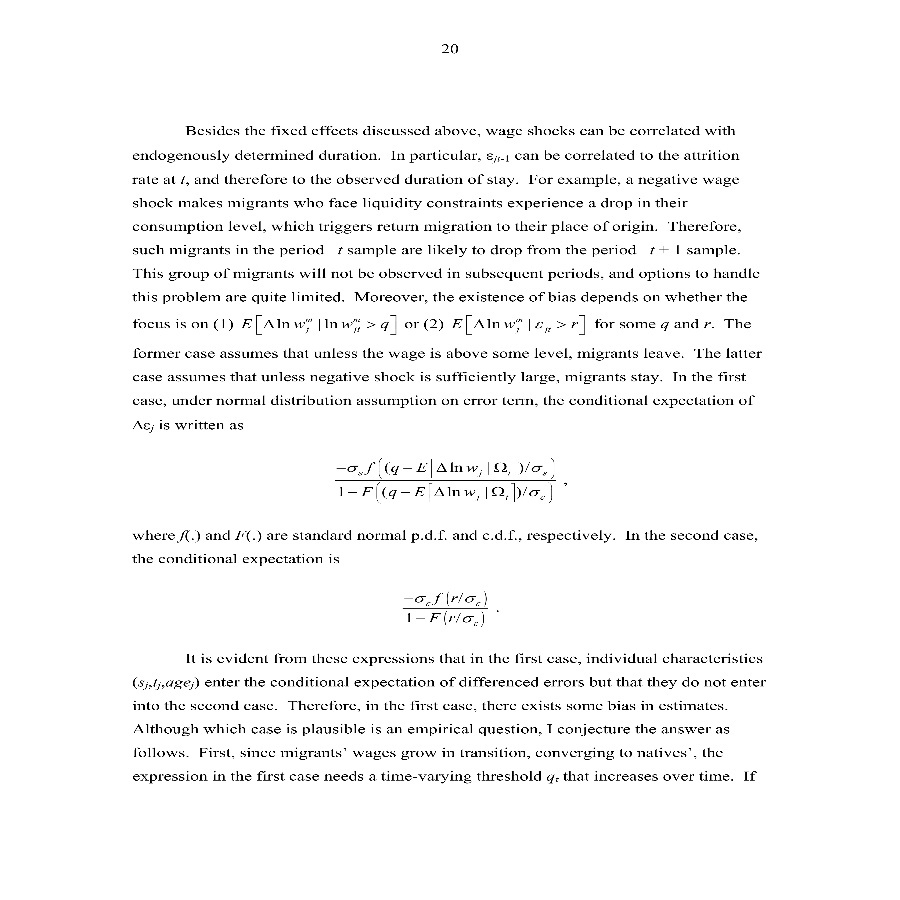eq: (324, 455, 560, 509), (396, 588, 490, 630)
